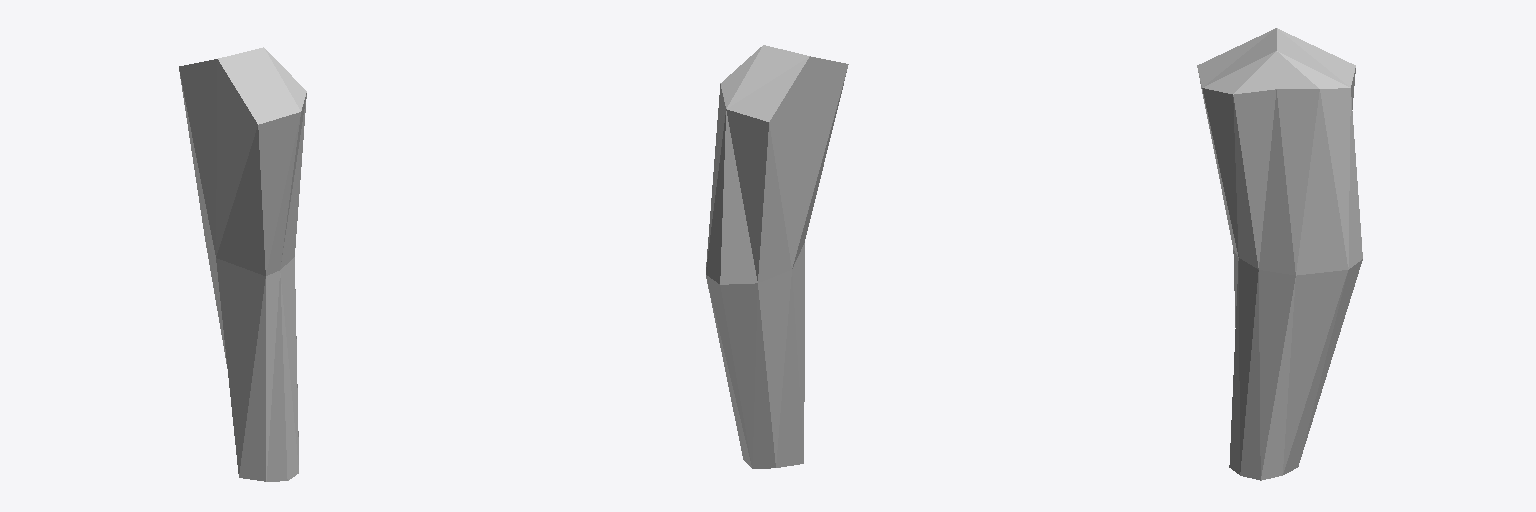
File: front_leg.obj
3 renders of one model, left to right at view 1: azimuth 30°, elevation 25°; view 2: azimuth 150°, elevation 25°; view 3: azimuth 270°, elevation 25°, orthographic.
Parts seen in each view (by area): view 1: Cube.003; view 2: Cube.003; view 3: Cube.003.
Part boxes in pixels (bbox=[...]): Cube.003: bbox=[179, 47, 306, 481]; Cube.003: bbox=[706, 45, 848, 468]; Cube.003: bbox=[1197, 28, 1362, 480].
Bounding box in the file's own units: 0.3427 × 1.69 × 0.6116.